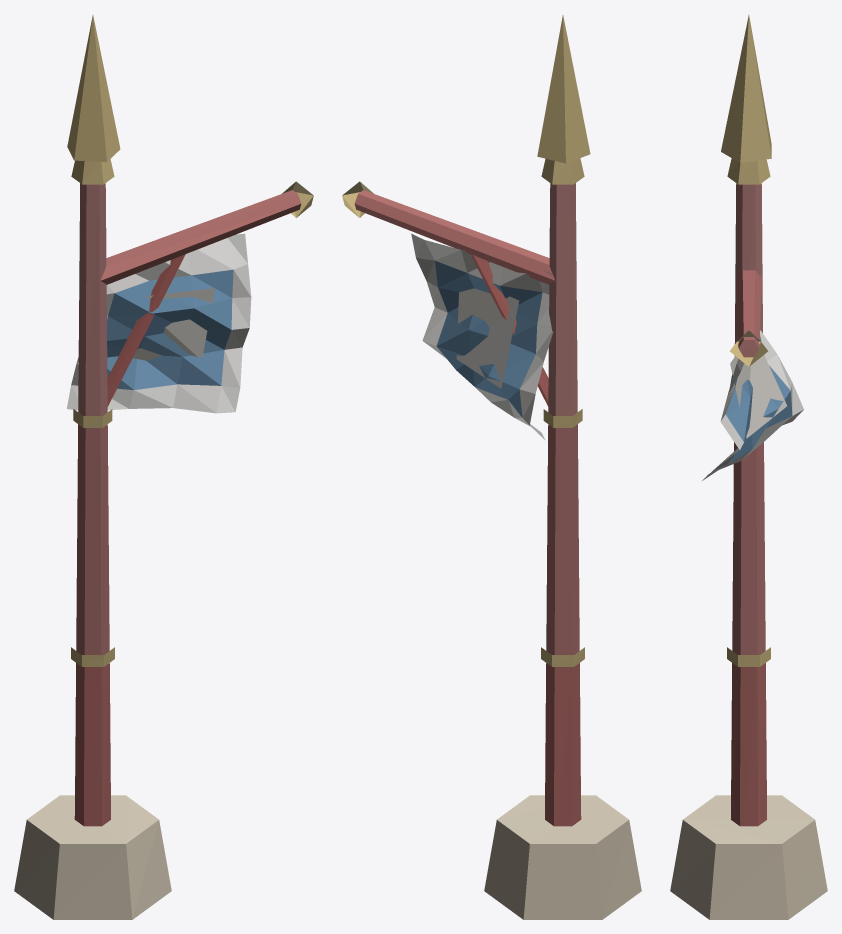
File: flag.square.qingqi__pole.ground.miaogan__armHang.glb
The picture shows the model from 3 angles, left to right: view 1: azimuth 30°, elevation 25°; view 2: azimuth 150°, elevation 25°; view 3: azimuth 270°, elevation 25°; orthographic projection.
Parts seen in each view (by area): view 1: flag.square.qingqi; view 2: flag.square.qingqi; view 3: flag.square.qingqi.
Part boxes in pixels (x1,y1,x2,y2): flag.square.qingqi: (14,15,313,919); flag.square.qingqi: (342,15,641,919); flag.square.qingqi: (670,15,827,919).
Size of the model in its own units: 1.72 by 5.16 by 0.84.
